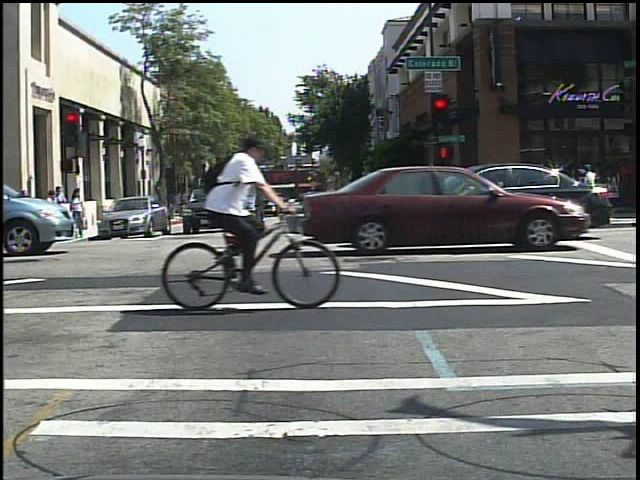person: (203, 124, 286, 303), (582, 159, 608, 224)
